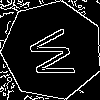W: (27, 25, 85, 83)
